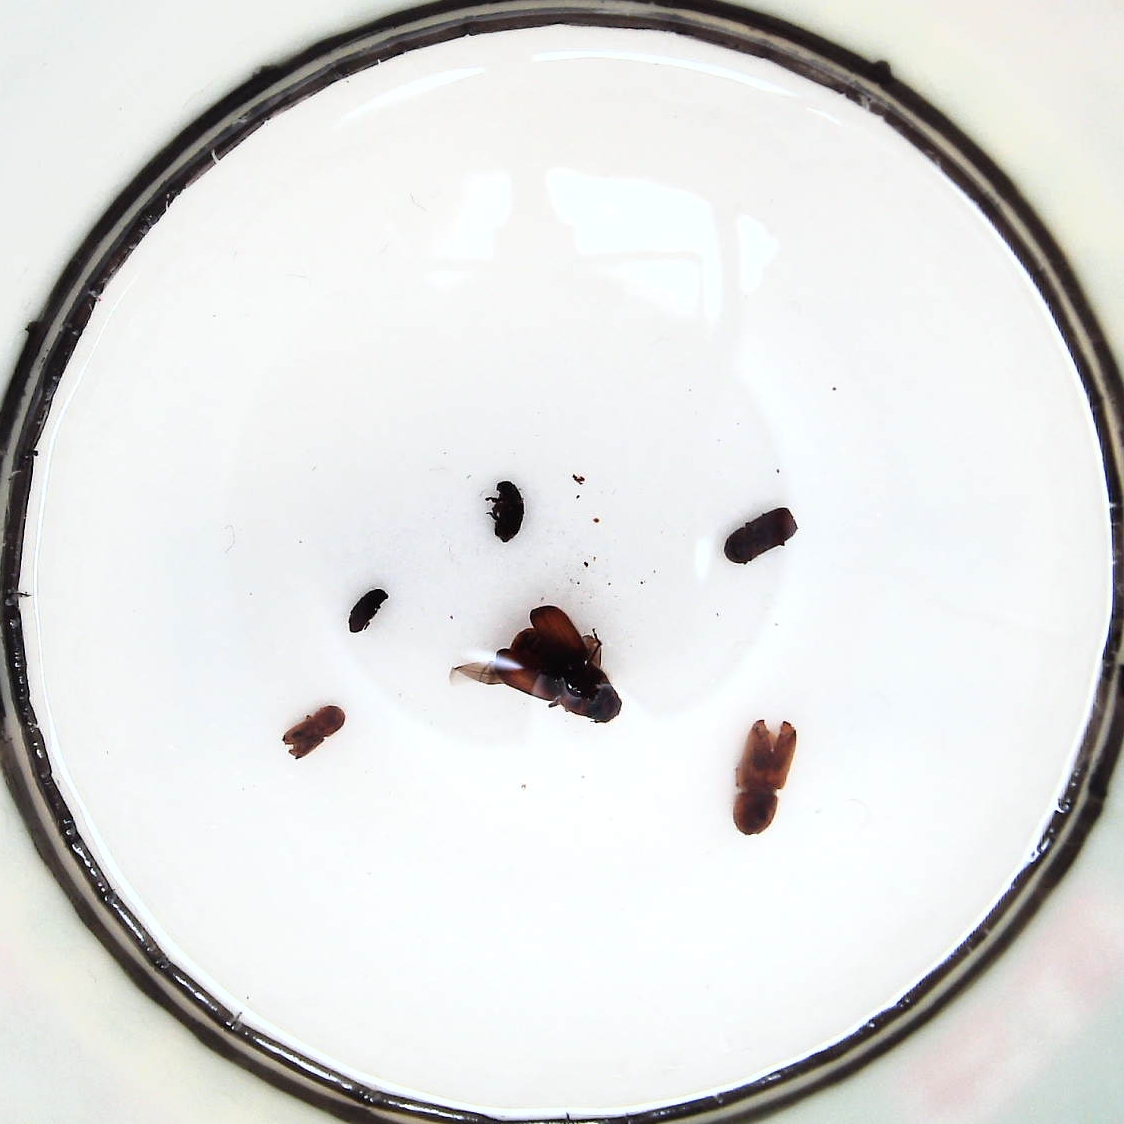Boerner: (733, 719, 797, 835)
Leconte: (494, 606, 622, 724)
acuminatus: (494, 481, 523, 542)
armandi: (282, 707, 346, 758)
coleoptera: (348, 588, 389, 633)
linnaeus: (724, 507, 799, 564)
